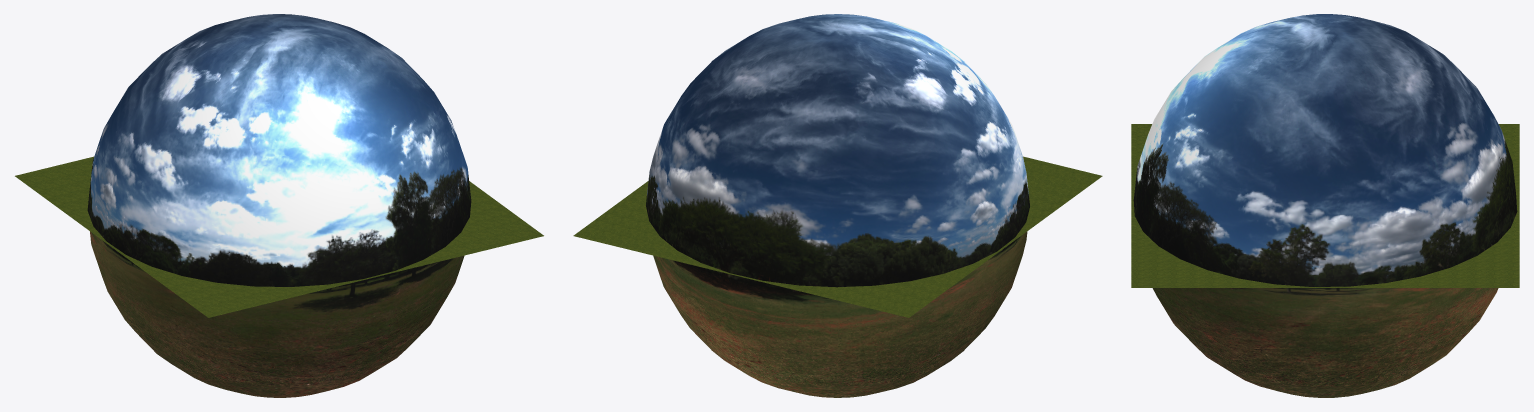
The model's file is world.glb.
3 renders of one model, left to right at view 1: azimuth 30°, elevation 25°; view 2: azimuth 150°, elevation 25°; view 3: azimuth 270°, elevation 25°, orthographic.
Parts seen in each view (by area): view 1: skybox, ground; view 2: skybox, ground; view 3: skybox, ground.
Part boxes in pixels (x1,y1,x2,y2): skybox: (87, 14, 471, 397); ground: (15, 156, 543, 317); skybox: (646, 14, 1029, 397); ground: (573, 156, 1102, 317); skybox: (1133, 14, 1517, 397); ground: (1131, 124, 1519, 287).
Bounding box in the file's own units: 46.79 × 46.36 × 46.79.
Materials: 4 (3 with a texture image).
